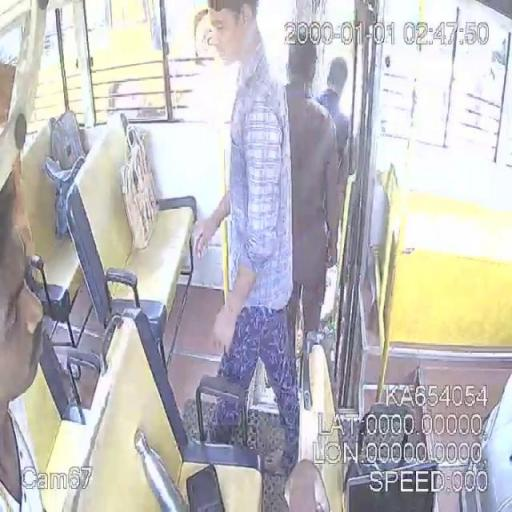persona: (189, 1, 301, 482), (279, 26, 341, 360), (0, 151, 48, 511)
